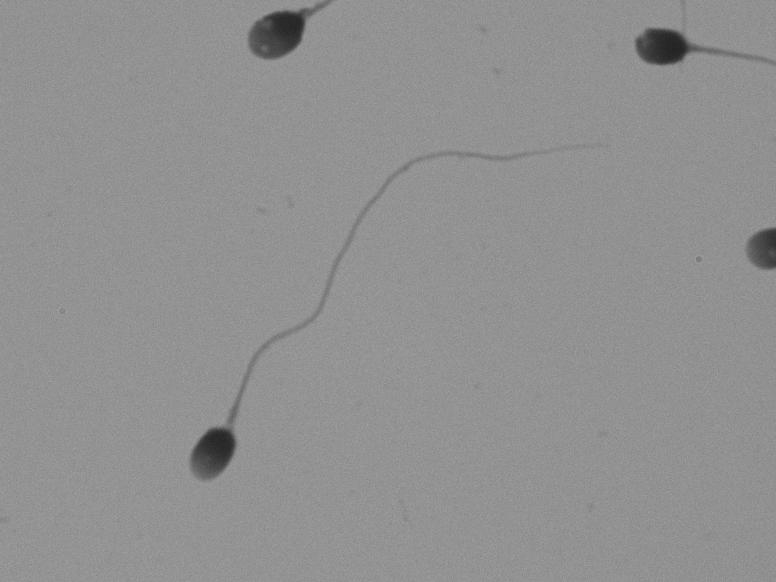Abnormal: (219, 4, 367, 85)
Normal: (180, 115, 647, 512)
